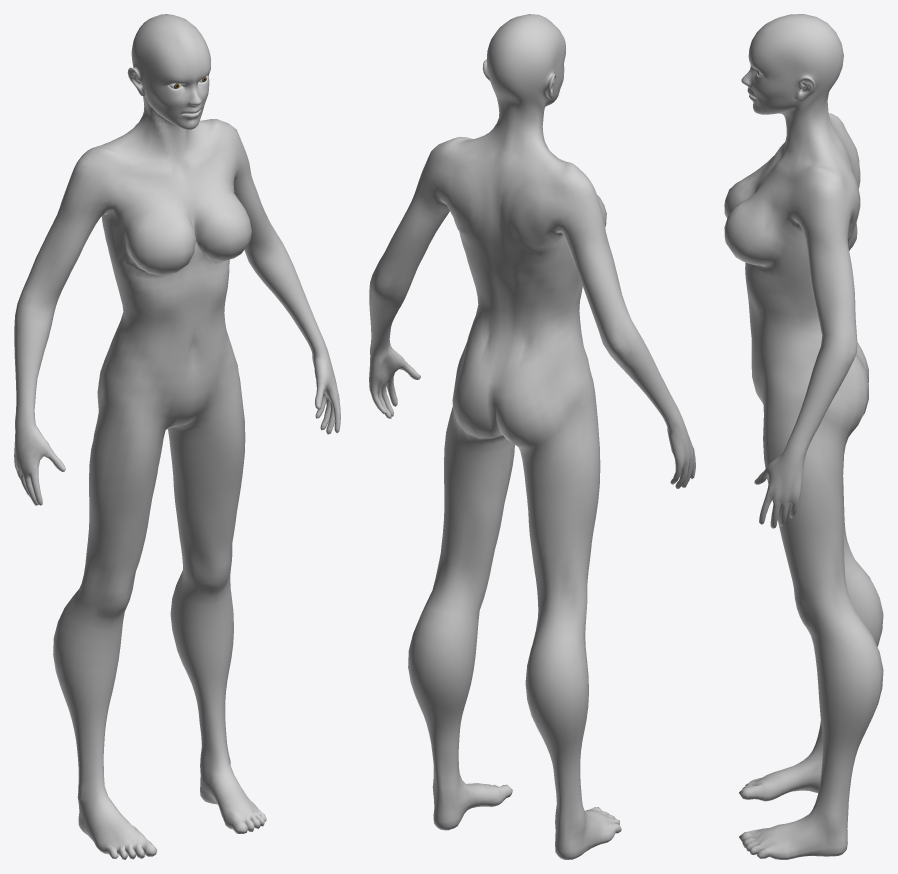
The model's file is Female_LP_BlendShapes.fbx.
3 renders of one model, left to right at view 1: azimuth 30°, elevation 25°; view 2: azimuth 150°, elevation 25°; view 3: azimuth 270°, elevation 25°, orthographic.
Visible parts, largest first — view 1: Femail_Basemesh1; view 2: Femail_Basemesh1; view 3: Femail_Basemesh1.
Boxes of the visible parts, x1,y1,x2,y2 form: Femail_Basemesh1: [14, 14, 340, 859]; Femail_Basemesh1: [369, 14, 695, 859]; Femail_Basemesh1: [724, 14, 883, 859].
Size of the model in its own units: 22.04 by 53.92 by 9.63.
